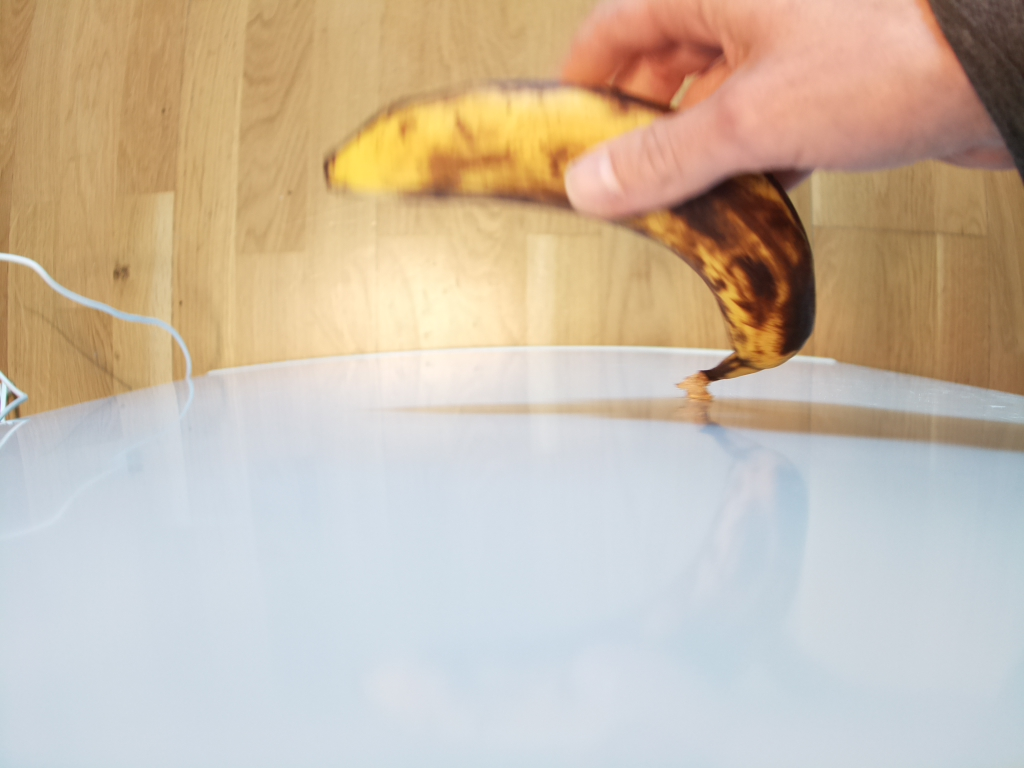banana-overripe: (324, 80, 819, 401)
